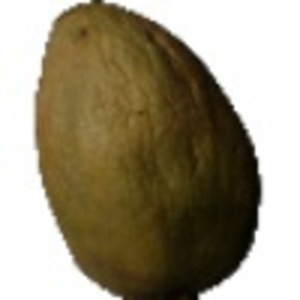mamão: (22, 3, 274, 295)
